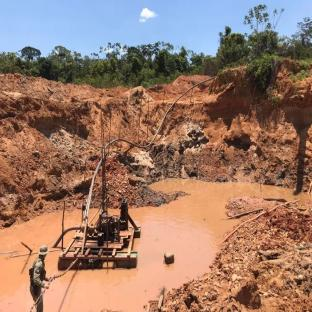ProcessingEquipment: (60, 207, 152, 284)
